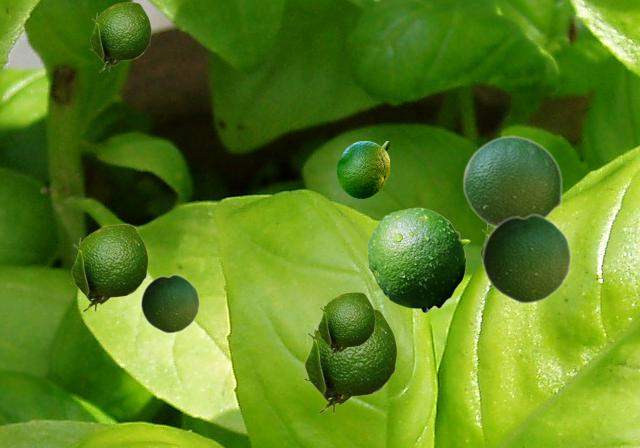dalandan: (367, 207, 469, 312), (303, 308, 396, 413), (462, 135, 562, 228), (481, 213, 571, 304), (70, 224, 147, 311), (89, 2, 150, 71), (317, 292, 374, 357), (140, 273, 199, 333), (337, 141, 388, 197), (479, 225, 491, 286)
